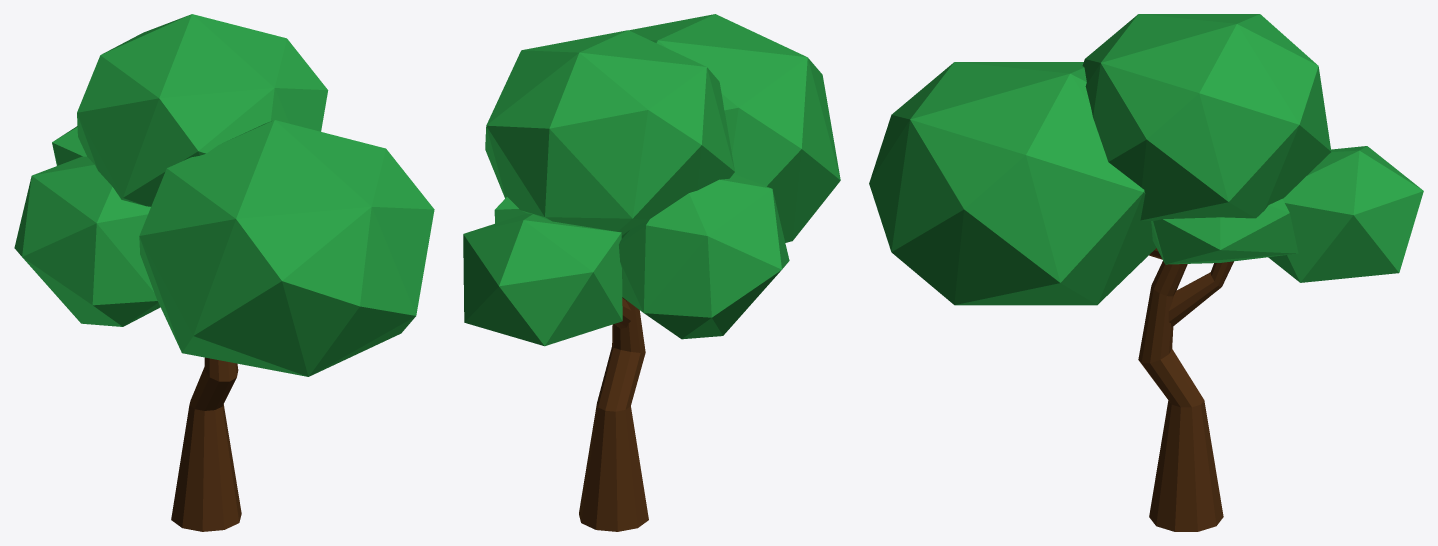
File: Maple_Tree.fbx
3 renders of one model, left to right at view 1: azimuth 30°, elevation 25°; view 2: azimuth 150°, elevation 25°; view 3: azimuth 270°, elevation 25°, orthographic. The views are drawn at different scales.
Visible parts, largest first — view 1: Maple Tree; view 2: Maple Tree; view 3: Maple Tree.
Part boxes in pixels (x1,y1,x2,y2): Maple Tree: (14,14,434,531); Maple Tree: (463,14,840,531); Maple Tree: (869,14,1423,531).
Size of the model in its own units: 249 by 377 by 381.
